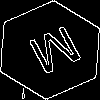M: (25, 25, 90, 84)
